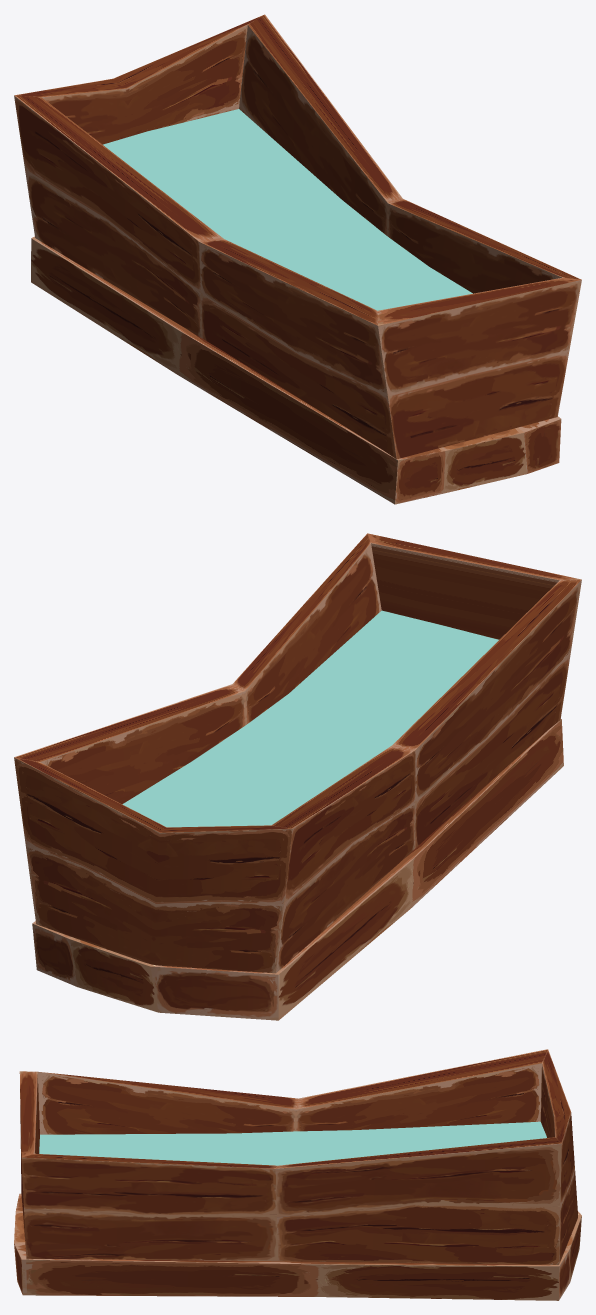
Rendered from SM_PROP_trough_02.fbx.
The picture shows the model from 3 angles, top to bottom: view 1: azimuth 30°, elevation 25°; view 2: azimuth 150°, elevation 25°; view 3: azimuth 270°, elevation 25°; orthographic projection. The views are drawn at different scales.
Visible parts, largest first — view 1: SM_PROP_trough_02; view 2: SM_PROP_trough_02; view 3: SM_PROP_trough_02.
Part boxes in pixels (x1=…): SM_PROP_trough_02: x1=14, y1=14, x2=581, y2=504; SM_PROP_trough_02: x1=14, y1=533, x2=581, y2=1020; SM_PROP_trough_02: x1=14, y1=1049, x2=581, y2=1300.
Size of the model in its own units: 111 by 81.88 by 255.
